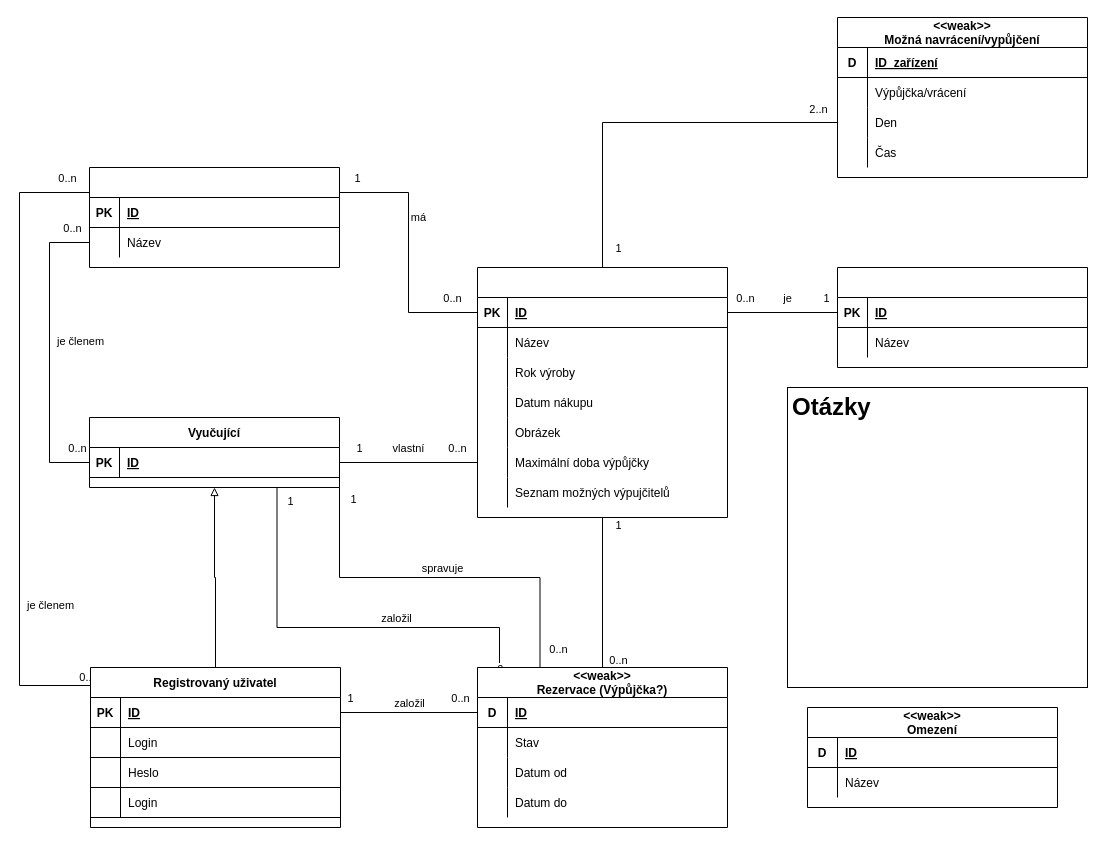
Some shapes in this 1105 by 845 pixel diagram are drawn without their labels. The box of each missing label's shape, as (x1, y1, x2, y2) in pixels:
Ateliér: (88, 166, 340, 268)
Typ: (836, 266, 1088, 368)
Zařízení: (476, 266, 728, 518)
